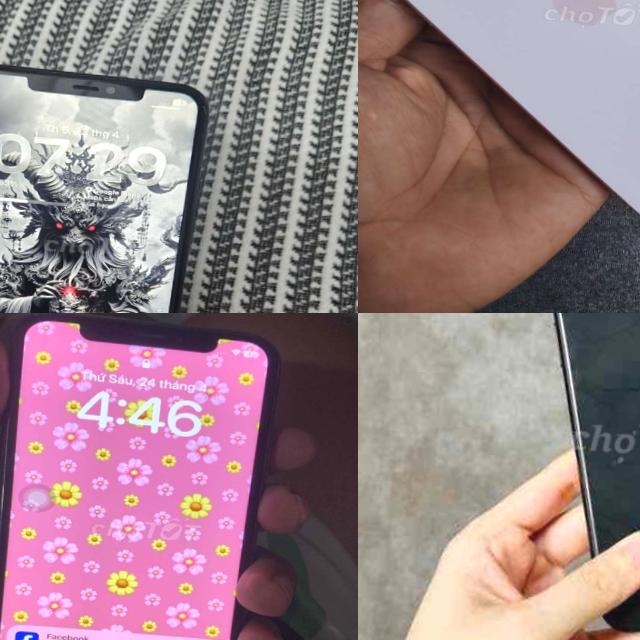scratch: (0, 491, 14, 516), (21, 313, 54, 323)
